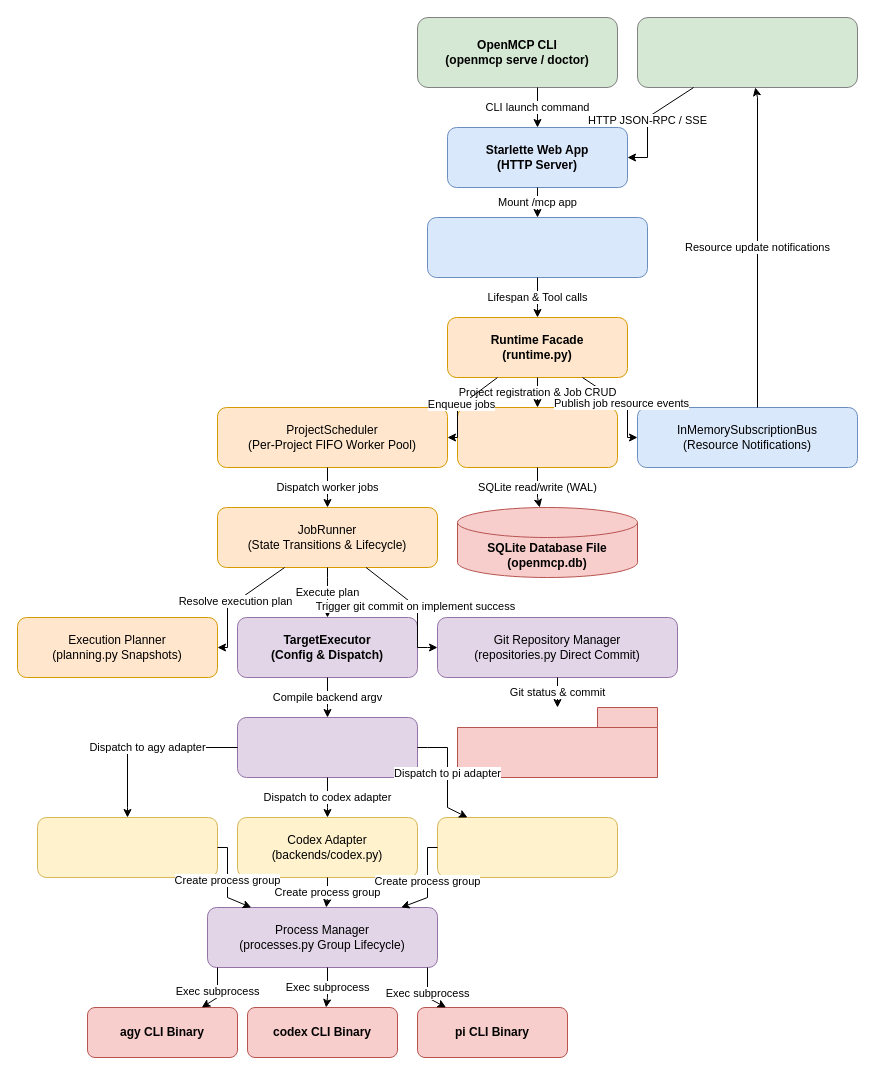
The diagram is 875 pixels wide and 1075 high, and some of its shapes have lost their labels. The centre of each missing label's shape, as x and y in pixels:
Antigravity Adapter (backends/agy.py): (127,847)
Database DAO (database.py): (537,437)
DriverRegistry (Driver Compilation): (327,747)
Local Git Repository (Target Directory): (557,742)
MCP Client / IDE (Cursor / VSCode / Claude Desktop): (747,52)
MCPServer Daemon Surface (Tools & Resources): (537,247)
Pi Adapter (backends/pi.py): (527,847)
